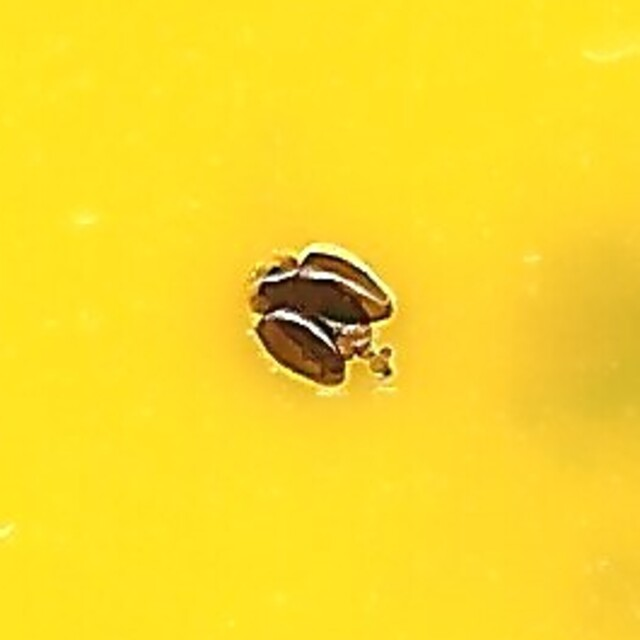Coleoptera: (242, 241, 398, 399)
